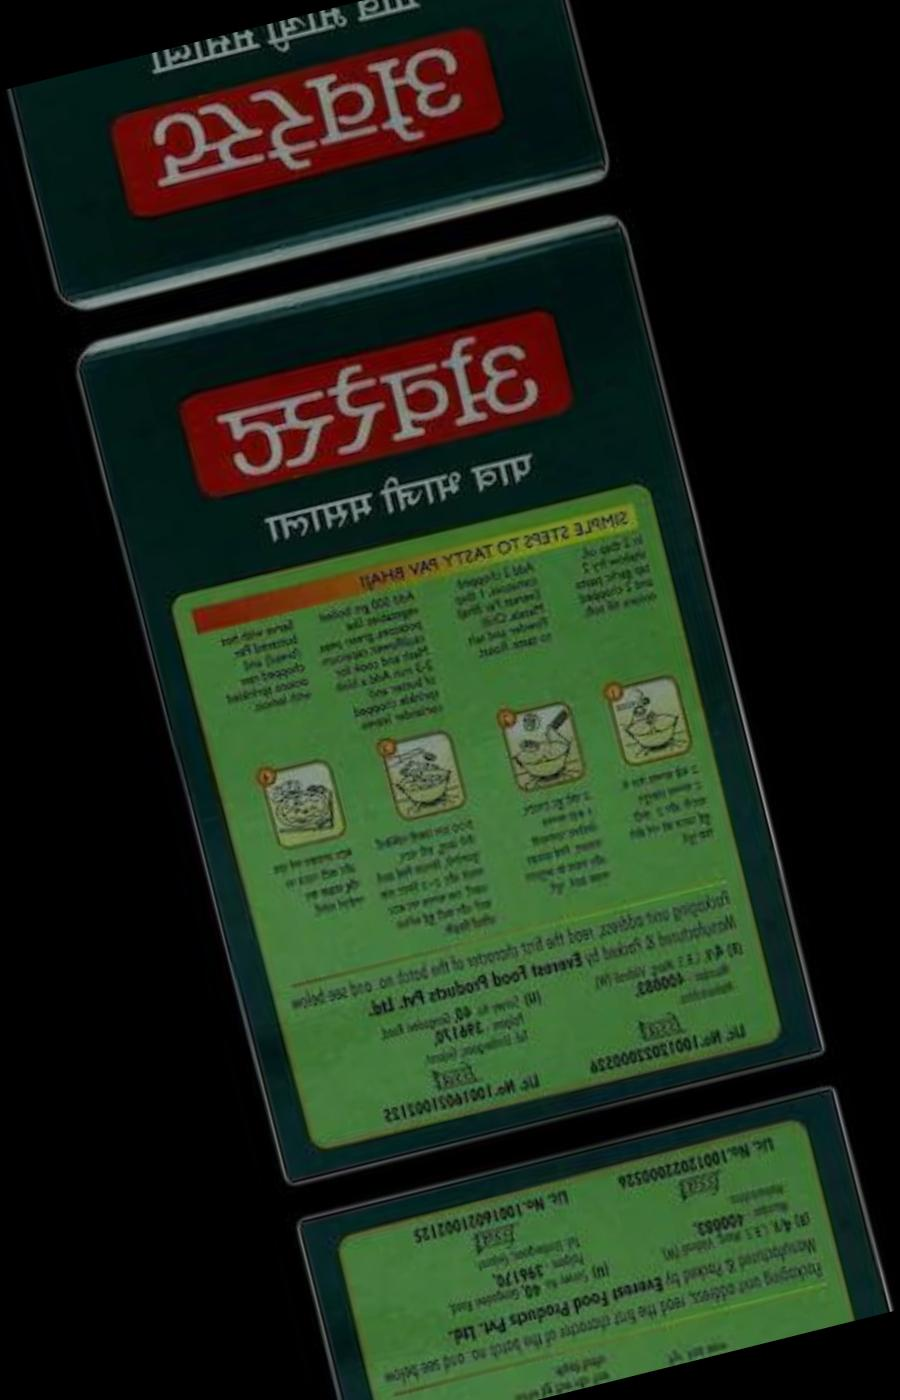Everest Pav Bhaji Masala 100 g: (59, 203, 838, 1202), (277, 1071, 900, 1400), (0, 0, 619, 324)
